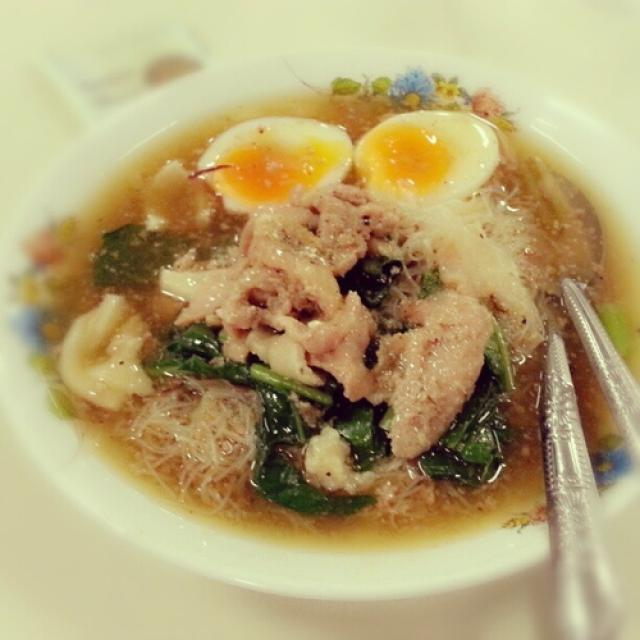面条主食: (40, 69, 617, 562)
